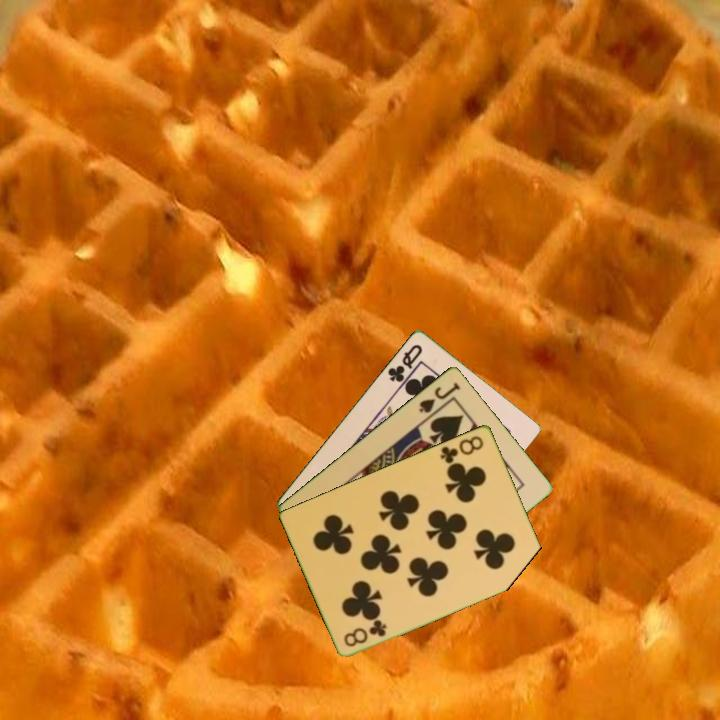8c: (436, 432, 487, 466), (340, 616, 390, 649)
Js: (415, 378, 463, 416)
Qc: (384, 340, 425, 390)
